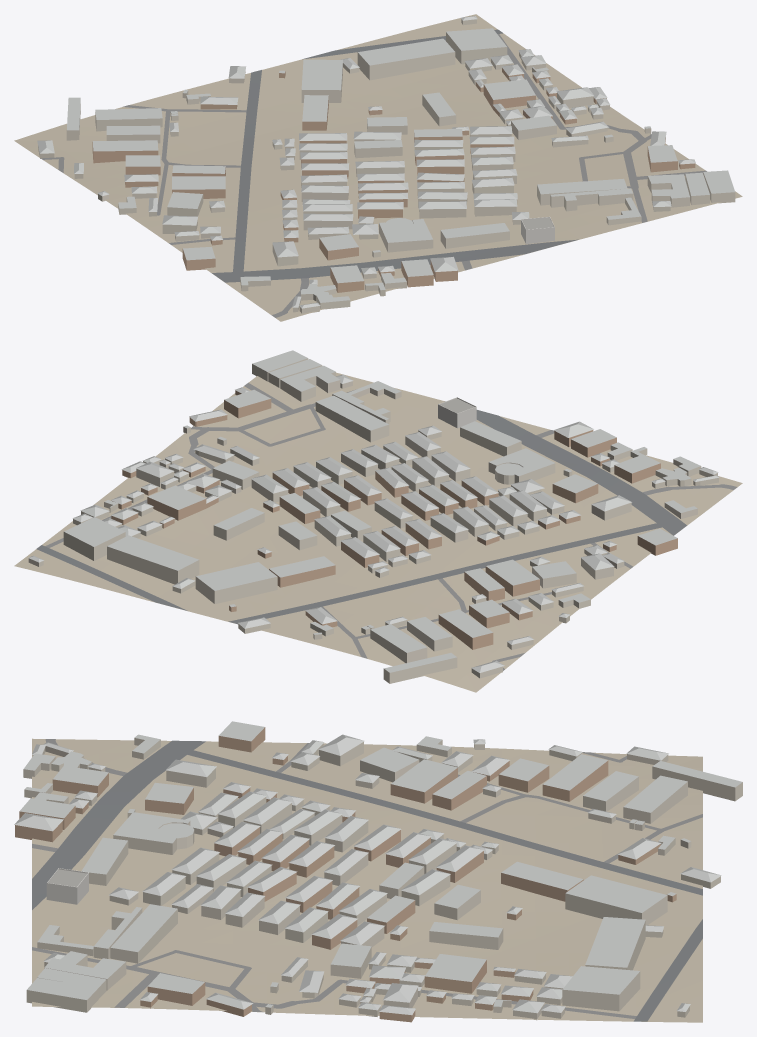
The model's file is bolak_4_-3.glb.
3 views of the same model, one above another, from view 1: azimuth 30°, elevation 25°; view 2: azimuth 150°, elevation 25°; view 3: azimuth 270°, elevation 25° (orthographic). The views are drawn at different scales.
Parts seen in each view (by area): view 1: Yer_Tuproq-col, Tom_Shifer, Devor_Suvoq-col, Devor_Gisht-col, Yol_Asfalt-col, Yol_Mahalla-col, Devor_Dokon-col; view 2: Yer_Tuproq-col, Tom_Shifer, Devor_Suvoq-col, Devor_Gisht-col, Yol_Asfalt-col, Yol_Mahalla-col, Devor_Dokon-col; view 3: Yer_Tuproq-col, Tom_Shifer, Devor_Suvoq-col, Devor_Gisht-col, Yol_Asfalt-col, Yol_Mahalla-col, Devor_Dokon-col.
Part boxes in pixels (x1=…): Yer_Tuproq-col: x1=14, y1=14, x2=742, y2=321; Tom_Shifer: x1=37, y1=16, x2=734, y2=308; Devor_Suvoq-col: x1=38, y1=19, x2=735, y2=313; Devor_Gisht-col: x1=92, y1=68, x2=695, y2=292; Yol_Asfalt-col: x1=212, y1=29, x2=578, y2=282; Yol_Mahalla-col: x1=41, y1=34, x2=706, y2=317; Devor_Dokon-col: x1=521, y1=216, x2=554, y2=243; Yer_Tuproq-col: x1=14, y1=372, x2=742, y2=692; Tom_Shifer: x1=28, y1=350, x2=718, y2=672; Devor_Suvoq-col: x1=28, y1=358, x2=718, y2=683; Devor_Gisht-col: x1=111, y1=390, x2=677, y2=649; Yol_Asfalt-col: x1=36, y1=401, x2=686, y2=624; Yol_Mahalla-col: x1=45, y1=382, x2=737, y2=670; Devor_Dokon-col: x1=438, y1=397, x2=476, y2=428; Yer_Tuproq-col: x1=32, y1=738, x2=702, y2=1022; Tom_Shifer: x1=14, y1=721, x2=742, y2=1015; Devor_Suvoq-col: x1=23, y1=738, x2=742, y2=1020; Devor_Gisht-col: x1=15, y1=727, x2=676, y2=1022; Yol_Asfalt-col: x1=32, y1=740, x2=702, y2=1021; Yol_Mahalla-col: x1=32, y1=739, x2=702, y2=1018; Devor_Dokon-col: x1=46, y1=868, x2=88, y2=904.
Size of what is drawn, in the model's own units: 420 by 29.87 by 435.
